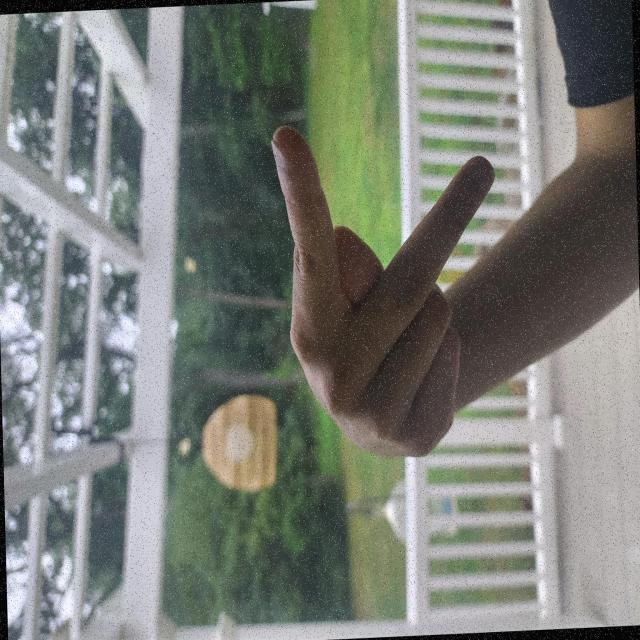P: (126, 352, 397, 640)
